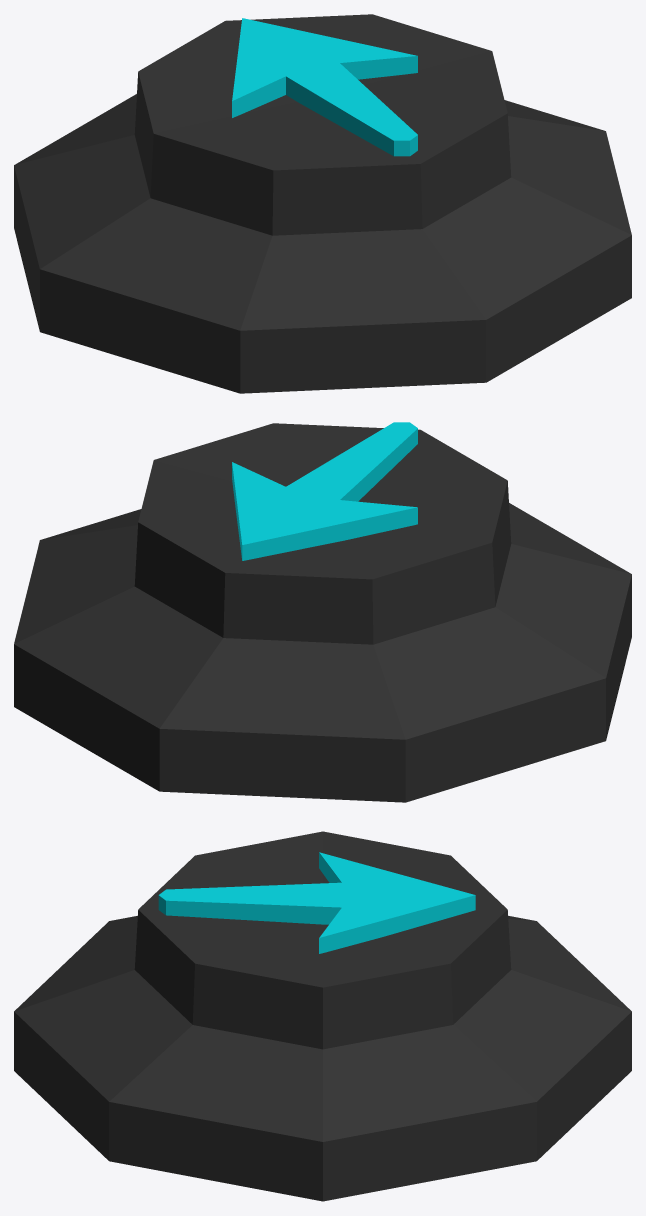
File: directionButton.glb
3 views of the same model, one above another, from view 1: azimuth 30°, elevation 25°; view 2: azimuth 150°, elevation 25°; view 3: azimuth 270°, elevation 25° (orthographic). The views are drawn at different scales.
Visible parts, largest first — view 1: Cube; view 2: Cube; view 3: Cube.
Part boxes in pixels (x1=…): Cube: x1=14, y1=14, x2=631, y2=393; Cube: x1=14, y1=422, x2=631, y2=802; Cube: x1=14, y1=831, x2=631, y2=1201.
Size of the model in its own units: 0.4018 by 0.1261 by 0.4018.
